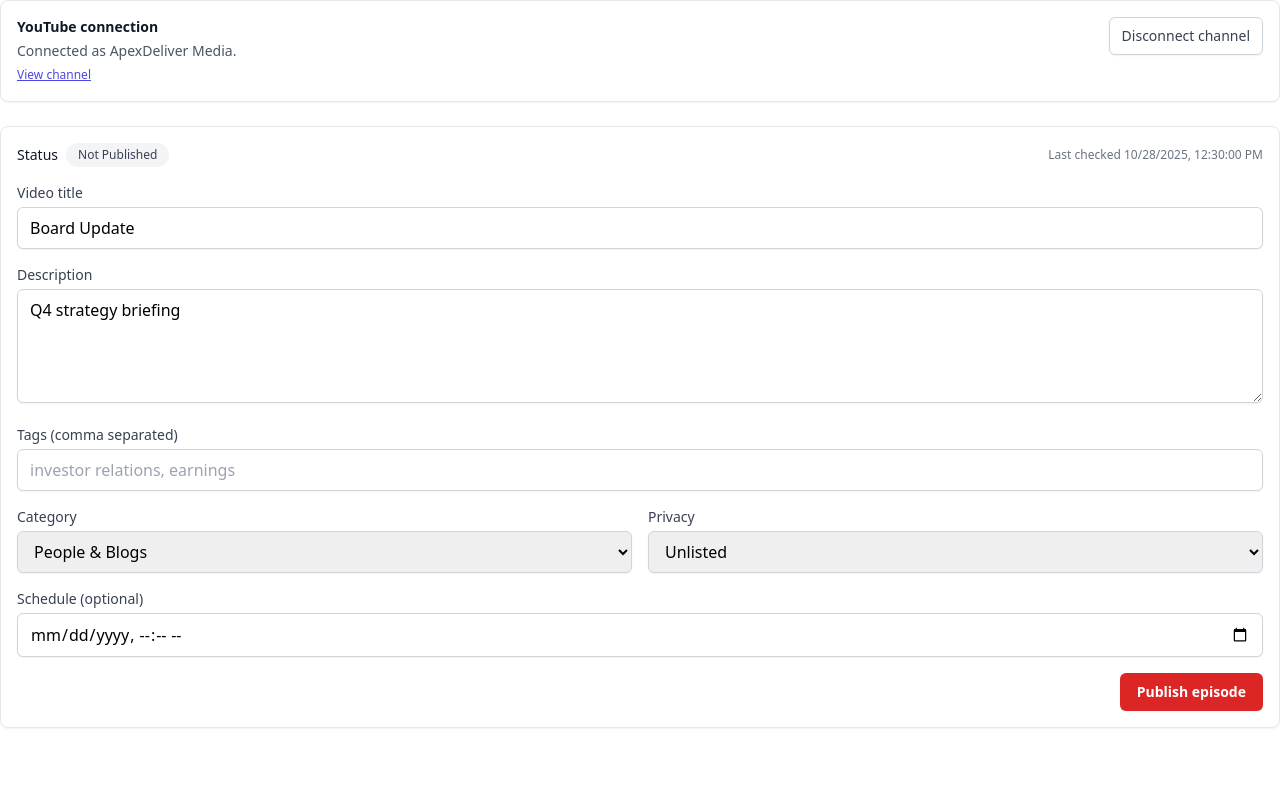
YouTubePublisher › allows disconnecting the connected channel
Click the button "Disconnect channel". click: [1186, 36]
box: top-left (1109, 17), bottom-right (1263, 55)
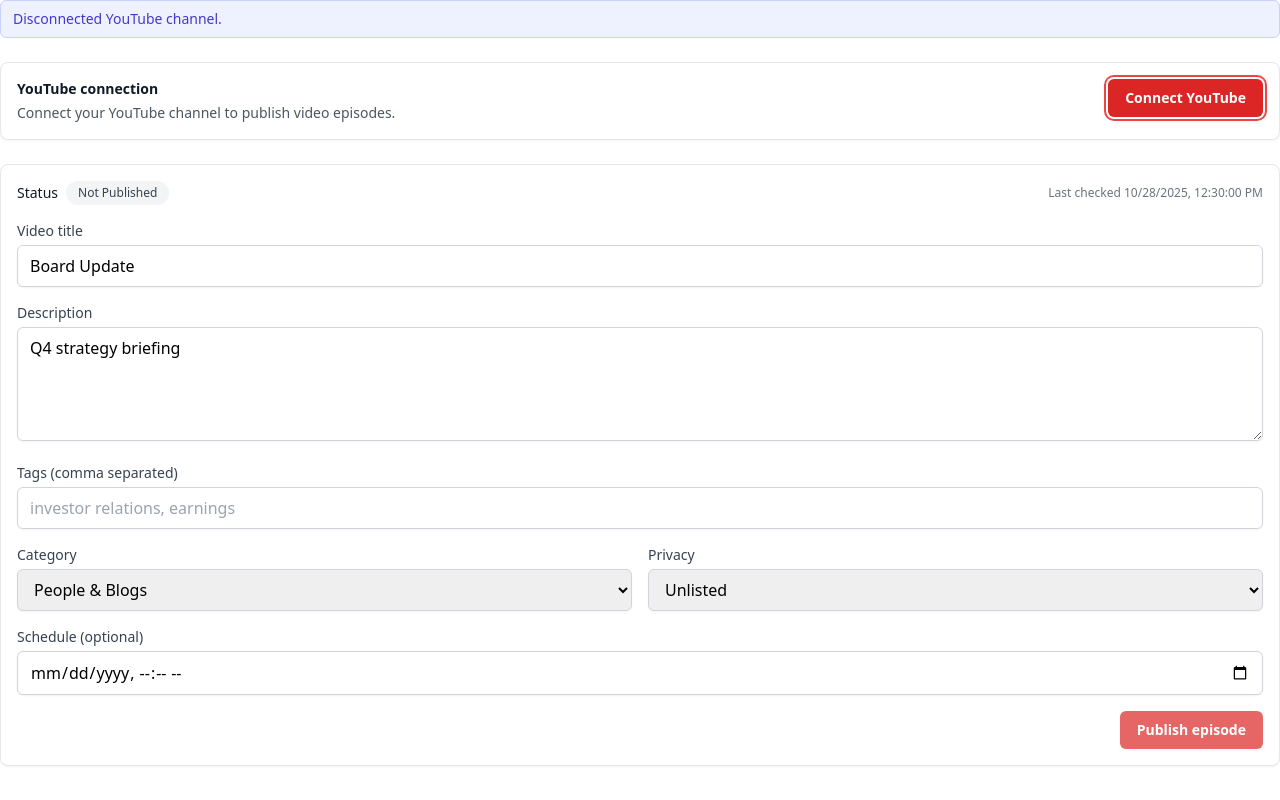
Expected: the button "Connect YouTube" is shown, top-left (1108, 79), bottom-right (1263, 117)
